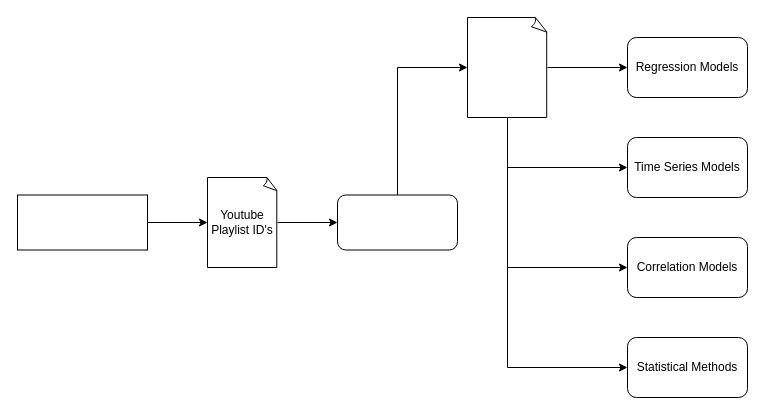
This 765x415 diagram has some shape labels left out. Each missing label, with the box of its shape:
Data extraction (Youtube API): (336, 194, 458, 250)
Processed data (CSV): (466, 16, 548, 118)
Typology for Youtube Channel Selection: (16, 194, 148, 250)
